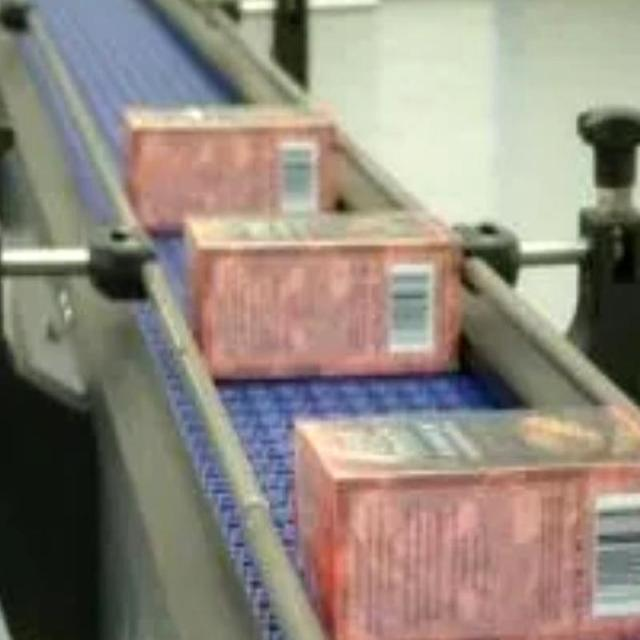food: (291, 402, 638, 638), (179, 202, 480, 396)
